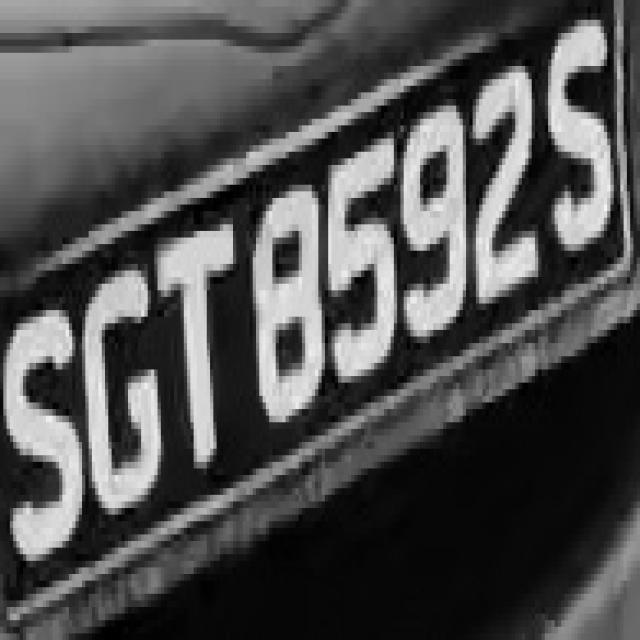2: (469, 73, 548, 343)
5: (322, 132, 404, 389)
8: (243, 172, 335, 436)
9: (387, 86, 479, 336)
G: (72, 251, 164, 528)
S: (532, 20, 627, 277), (6, 297, 86, 574)
T: (148, 198, 243, 495)
